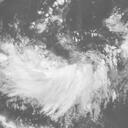cyclone: (32, 45, 108, 115)
